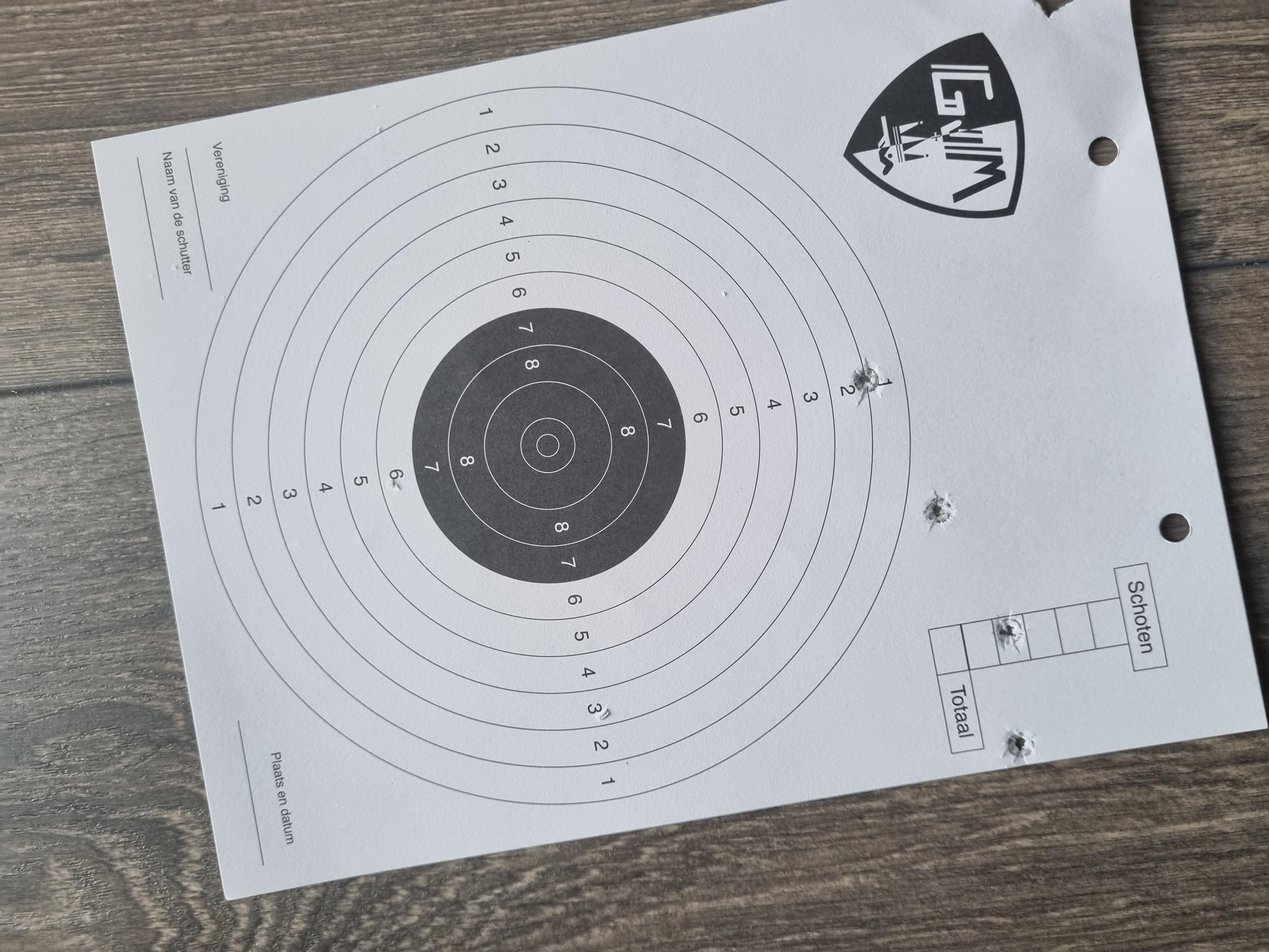hole: (729, 638, 792, 665), (248, 751, 303, 781), (561, 692, 617, 718), (397, 745, 457, 769)
